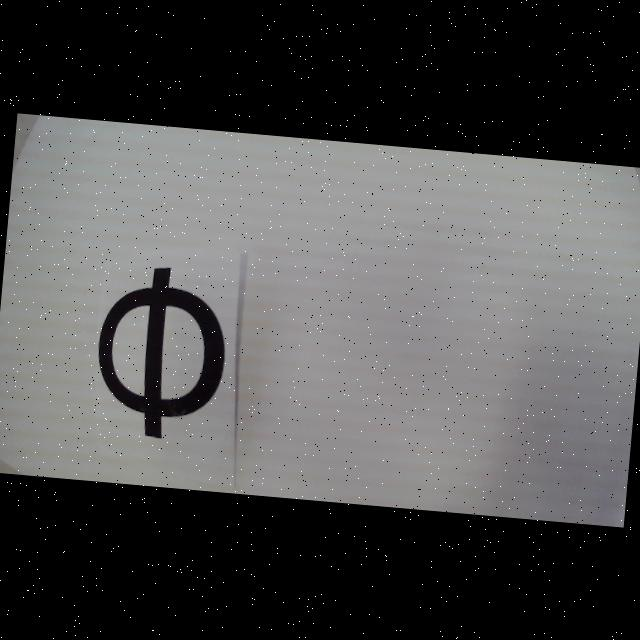PHI: (91, 261, 232, 444)
